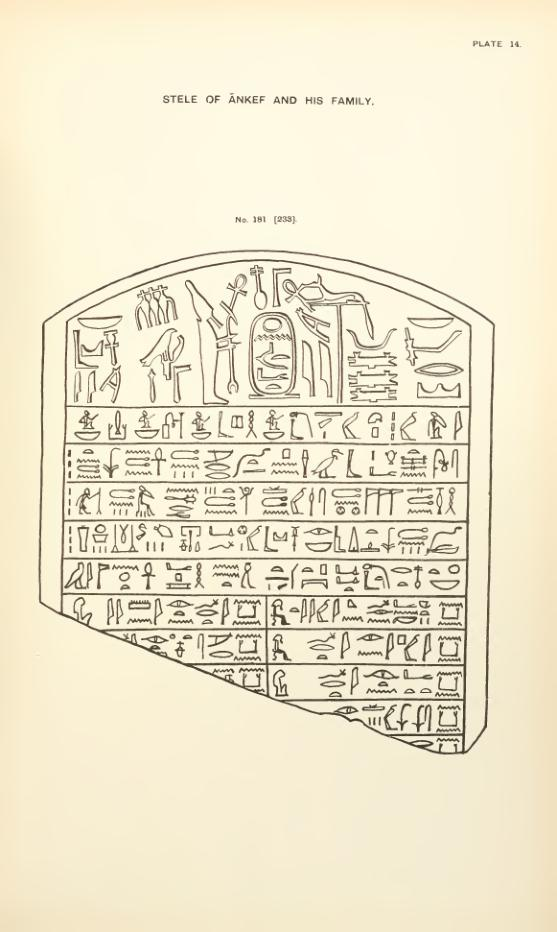circle: (246, 310, 302, 402)
